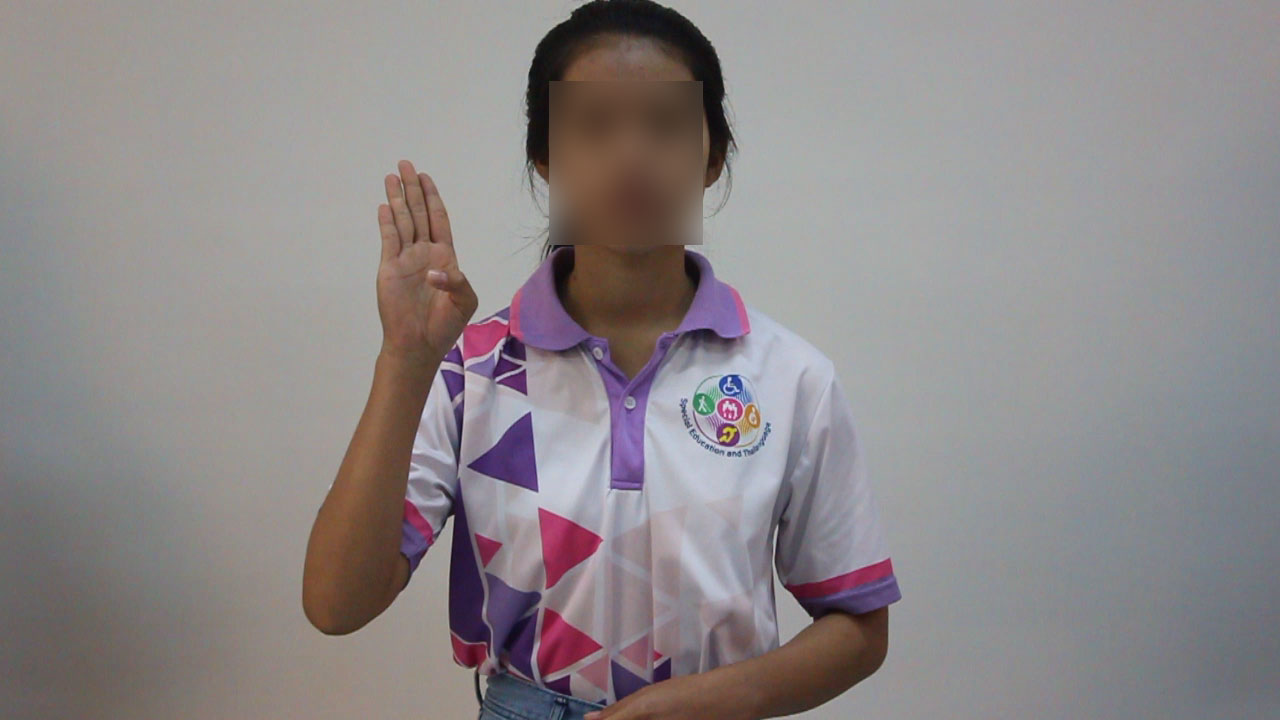bor: (352, 147, 492, 371)
